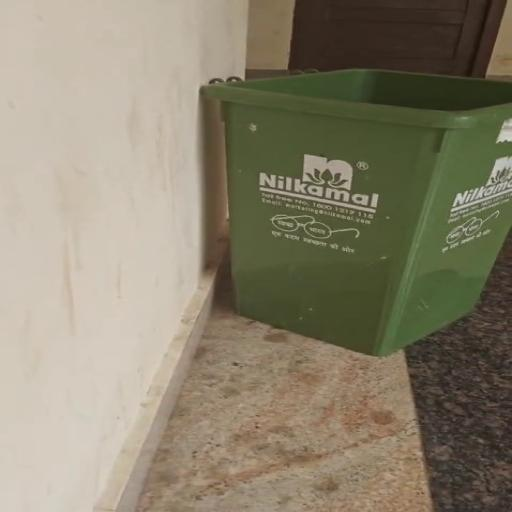Nilkamal-dustbin-detection: (204, 70, 511, 354)
